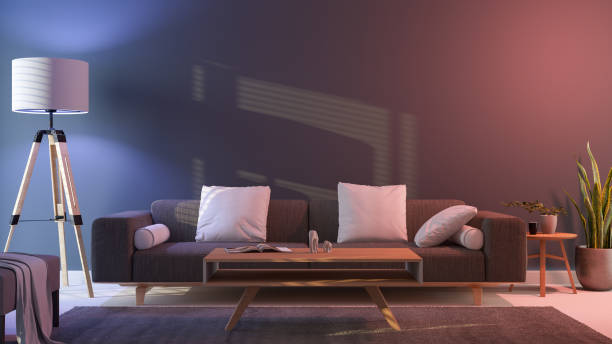floor lamp: (3, 55, 94, 298)
large plant: (569, 140, 612, 293)
side table: (527, 231, 578, 299)
small plant: (520, 196, 566, 233)
sofa: (89, 182, 529, 307)
table: (200, 246, 424, 333)
